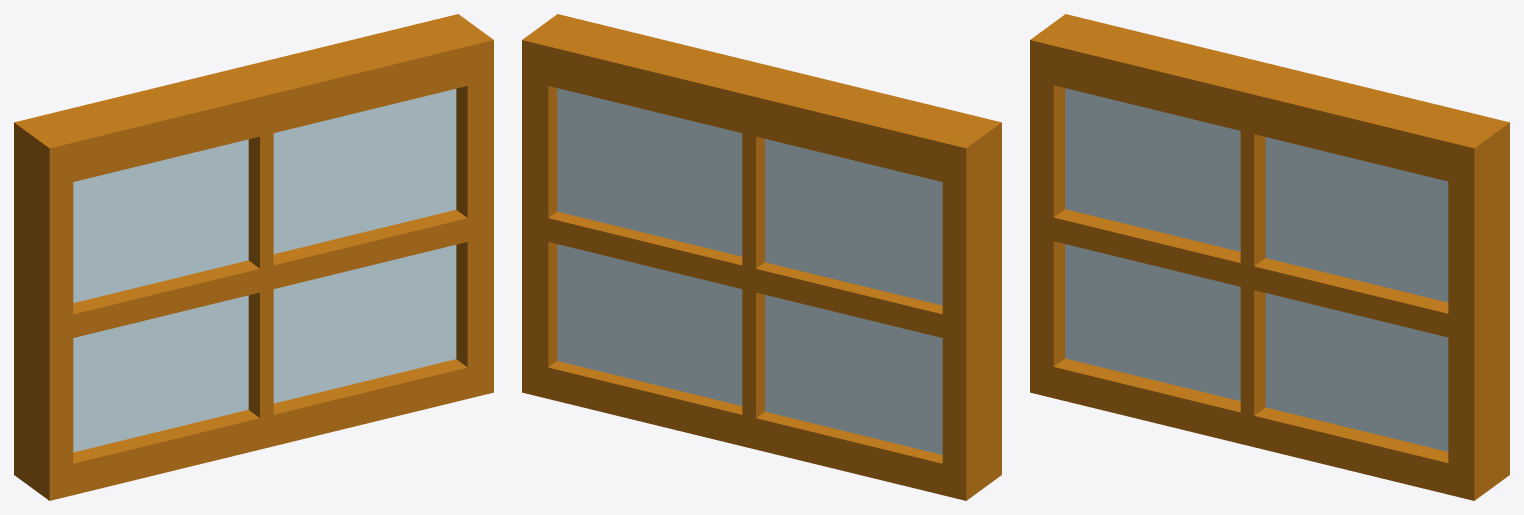
File: ventana17.obj
3 renders of one model, left to right at view 1: azimuth 30°, elevation 25°; view 2: azimuth 150°, elevation 25°; view 3: azimuth 330°, elevation 25°, orthographic.
Parts seen in each view (by area): view 1: pasted__pasted__pasted__pasted__pCube17 pasted__pasted__pasted__; view 2: pasted__pasted__pasted__pasted__pCube17 pasted__pasted__pasted__; view 3: pasted__pasted__pasted__pasted__pCube17 pasted__pasted__pasted__.
Part boxes in pixels (x1,y1,x2,y2): pasted__pasted__pasted__pasted__pCube17 pasted__pasted__pasted__: (14, 14, 493, 500); pasted__pasted__pasted__pasted__pCube17 pasted__pasted__pasted__: (522, 14, 1001, 500); pasted__pasted__pasted__pasted__pCube17 pasted__pasted__pasted__: (1030, 14, 1509, 500).
Size of the model in its own units: 1.26 by 0.9537 by 0.1744.
1 material, 1 textured.
